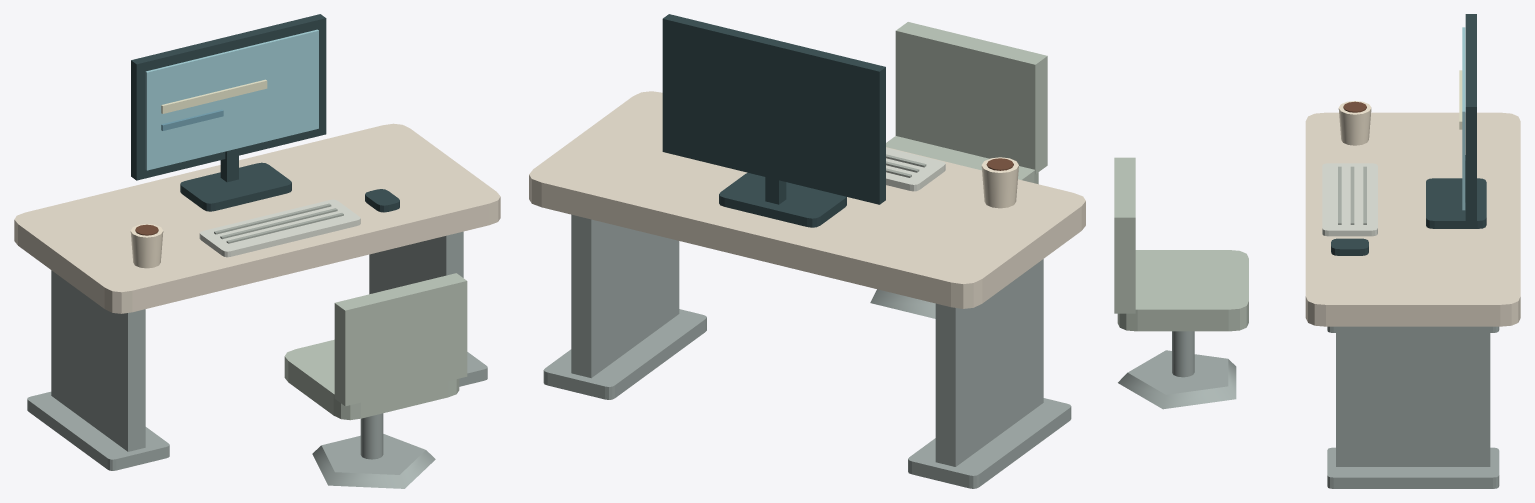
The model's file is desk-starter.glb.
3 renders of one model, left to right at view 1: azimuth 30°, elevation 25°; view 2: azimuth 150°, elevation 25°; view 3: azimuth 270°, elevation 25°, orthographic. The views are drawn at different scales.
Parts seen in each view (by area): view 1: desk-starter; view 2: desk-starter; view 3: desk-starter.
Part boxes in pixels (x1,y1,x2,y2): desk-starter: (14,14,500,488); desk-starter: (529,14,1085,488); desk-starter: (1114,14,1520,488).
Size of the model in its own units: 1.8 by 1.47 by 1.61.
